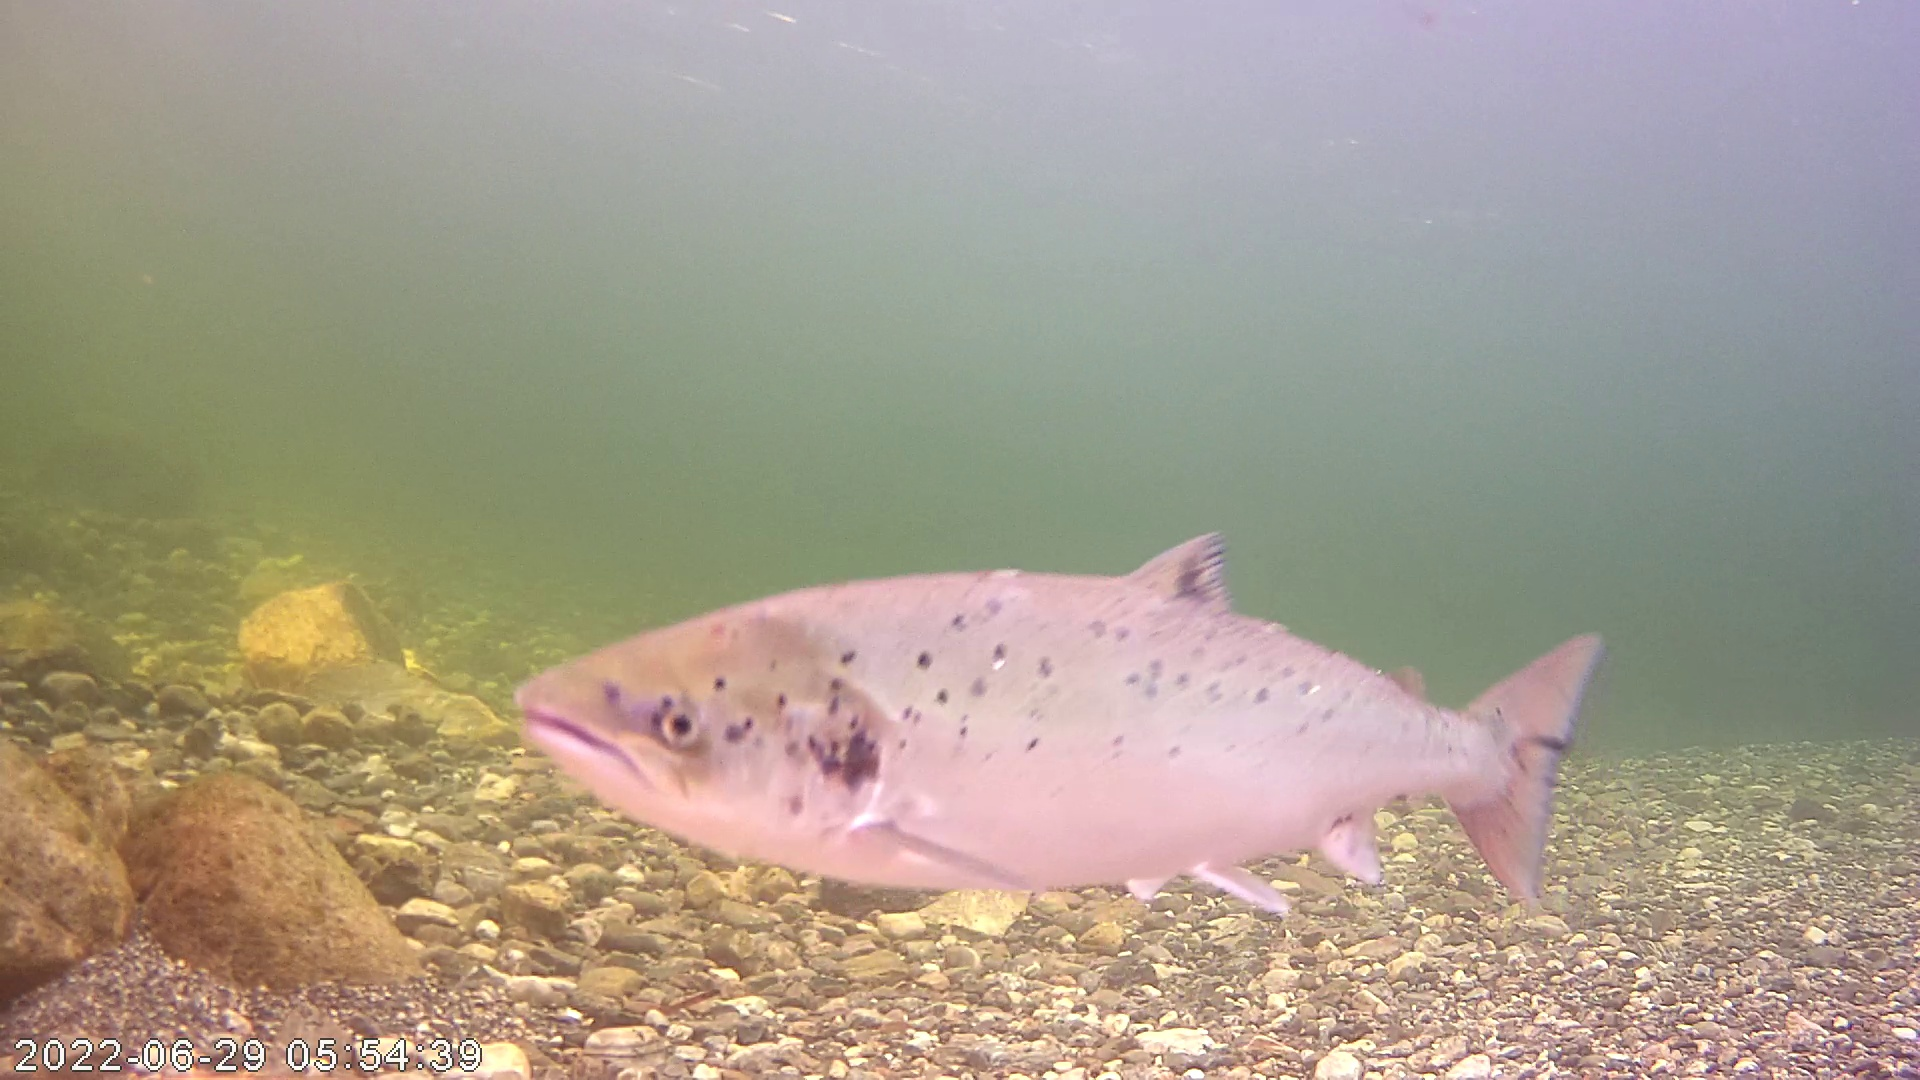salmon: (525, 425, 1600, 922)
